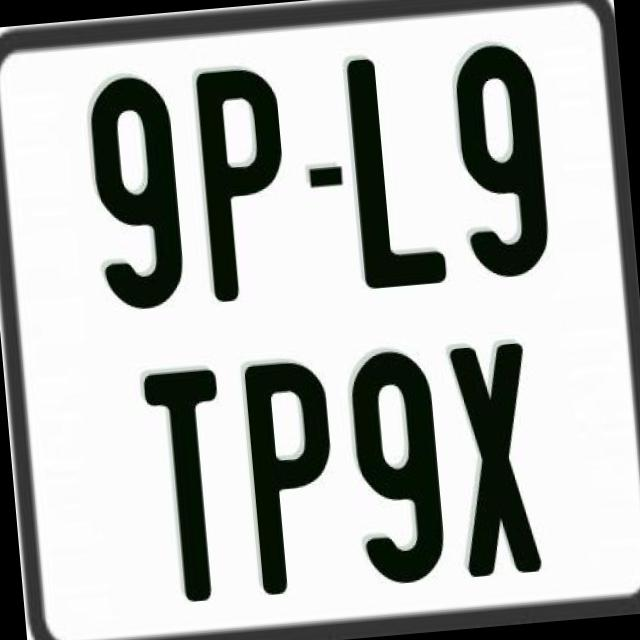9: (344, 346, 451, 594), (451, 41, 558, 280), (82, 74, 183, 322)
L: (343, 54, 448, 298)
P: (241, 355, 341, 598), (192, 61, 292, 302)
T: (140, 368, 236, 606)
X: (446, 338, 544, 580)
